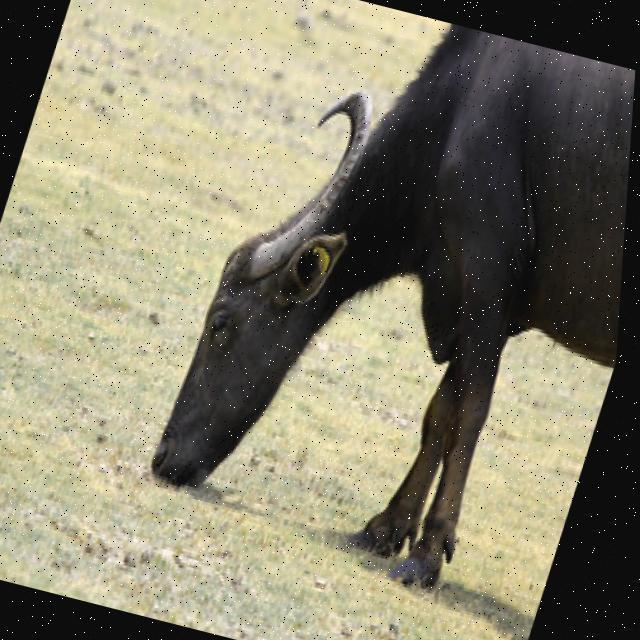Buffalo: (121, 0, 640, 622)
